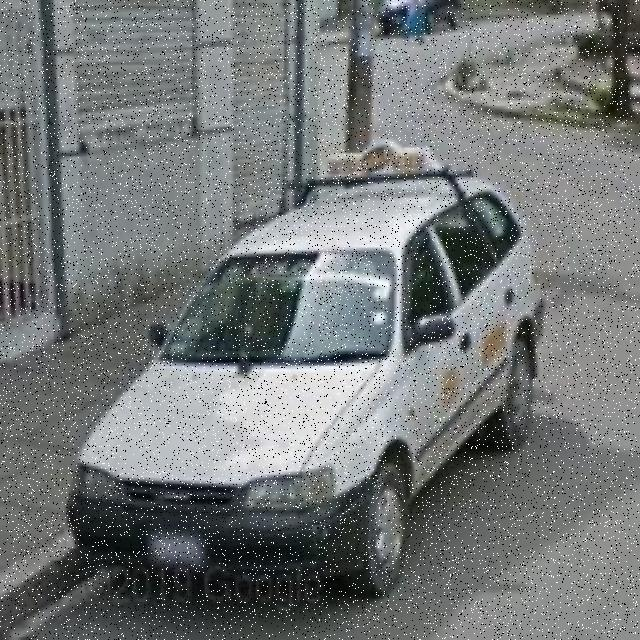cars: (76, 169, 538, 598)
